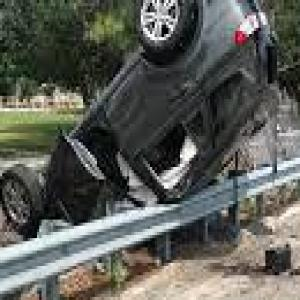critical: (0, 0, 279, 235)
